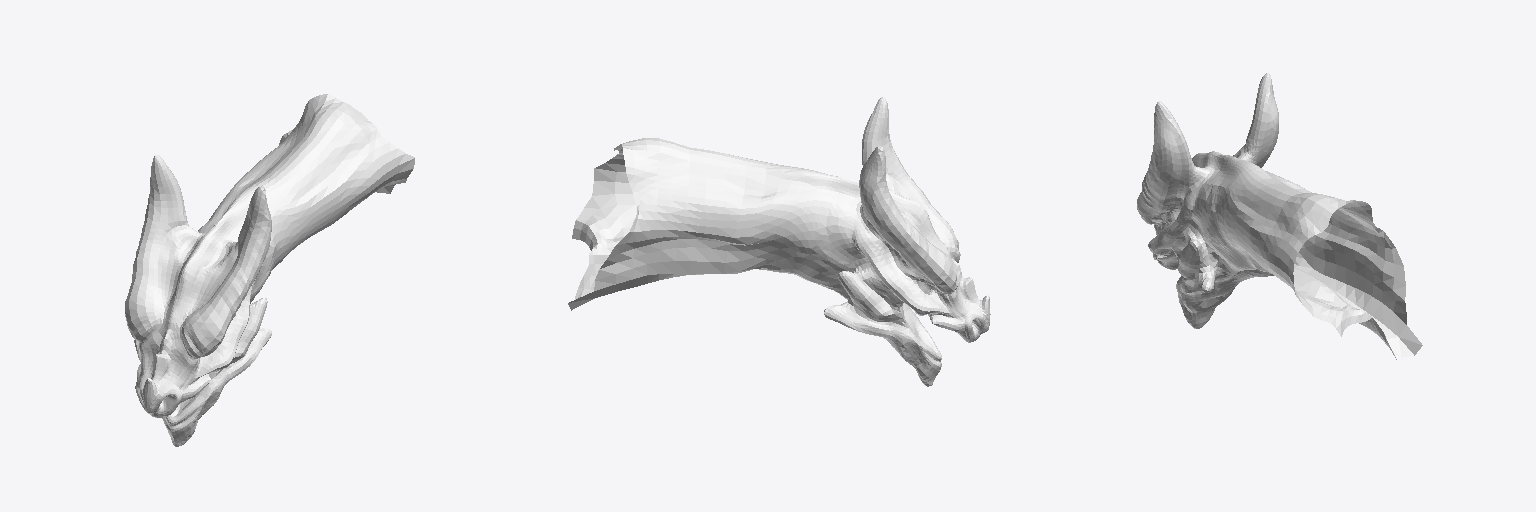
3 renders of one model, left to right at view 1: azimuth 30°, elevation 25°; view 2: azimuth 150°, elevation 25°; view 3: azimuth 270°, elevation 25°, orthographic.
Parts seen in each view (by area): view 1: cabeza2; view 2: cabeza2; view 3: cabeza2.
Part boxes in pixels (x1,y1,x2,y2): cabeza2: (125,94,414,446); cabeza2: (568,97,990,386); cabeza2: (1137,73,1422,359).
Size of the model in its own units: 2.85 by 2.15 by 2.12.
Materials: 1 (1 with a texture image).